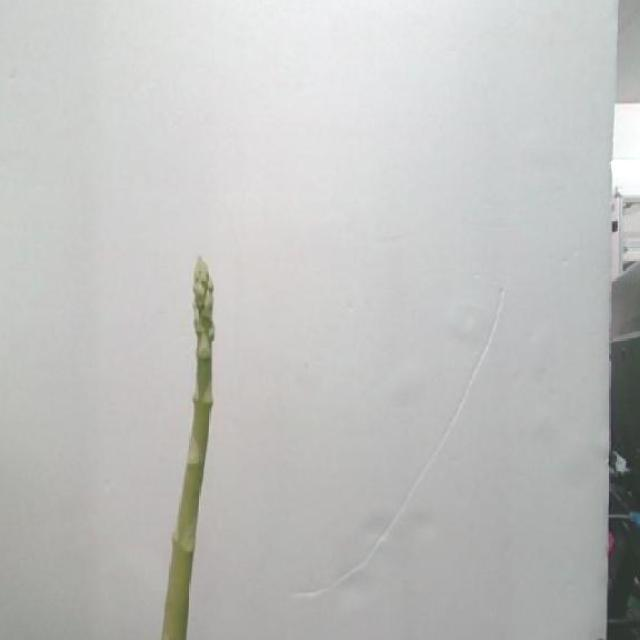aspargus: (160, 258, 215, 640)
